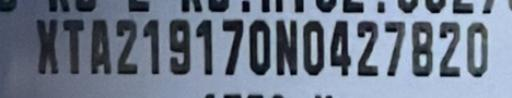letter: (164, 17, 194, 75), (218, 17, 246, 77), (408, 17, 436, 77), (464, 17, 490, 81), (246, 15, 272, 77), (274, 16, 300, 78), (88, 16, 114, 76), (300, 17, 326, 77), (381, 18, 407, 78), (354, 19, 380, 79), (34, 16, 60, 74), (60, 17, 86, 75), (114, 17, 140, 75), (436, 20, 462, 78), (328, 16, 352, 76), (194, 15, 214, 77), (142, 17, 162, 75)
